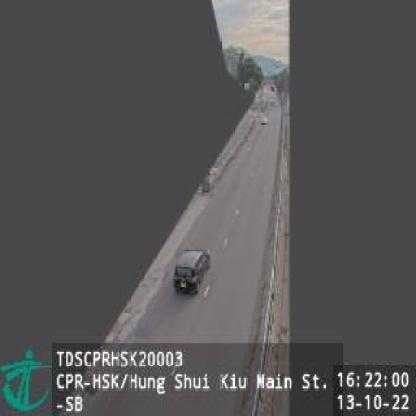Car: (171, 244, 213, 296)
